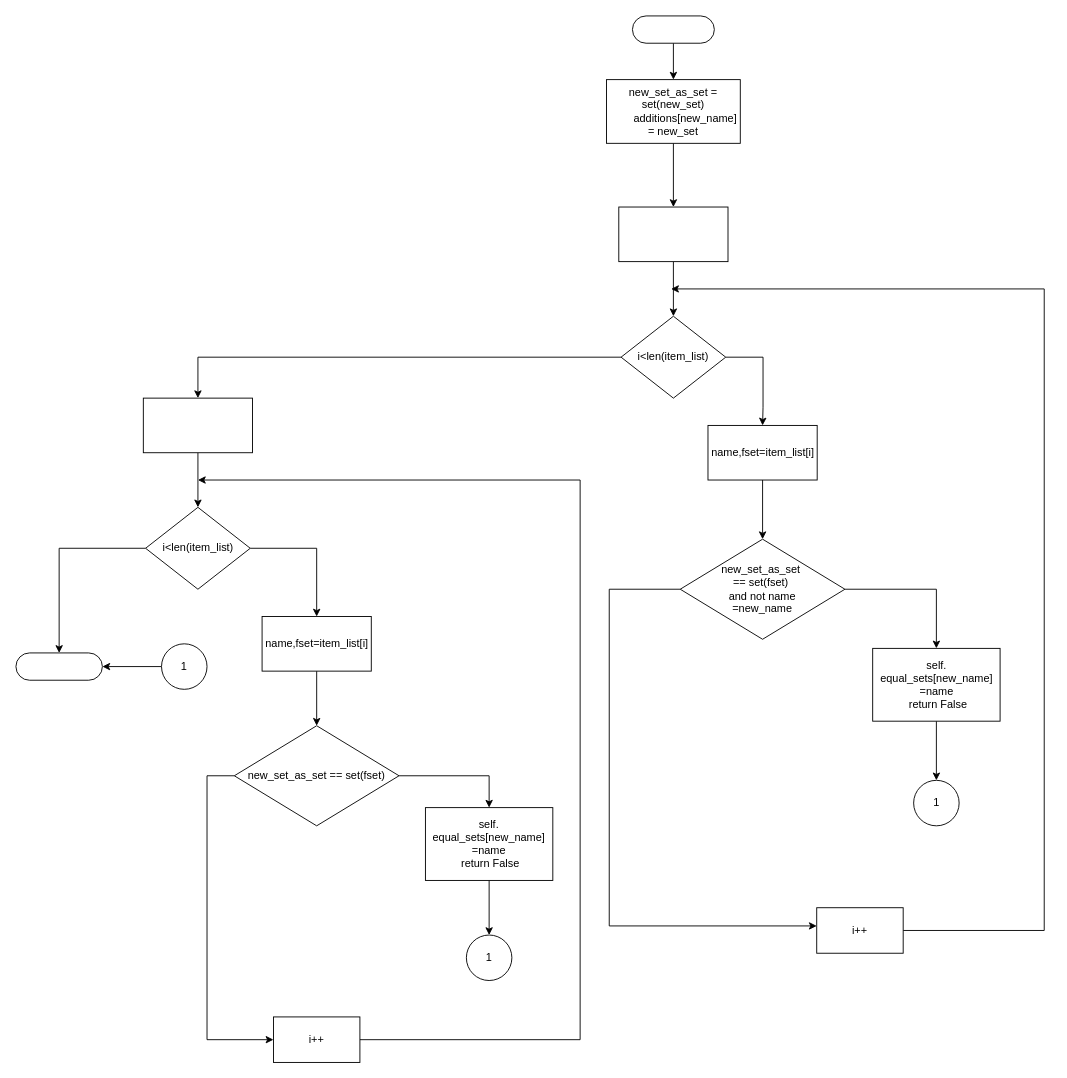
Image size: 1067x1078. Some labels were removed from this diagram. Here are the shapes that lost their labels. From the top down, the centre of each, then its label:
pixel 673 29: begin
pixel 673 234: item_list=list (additions.items()) i=0
pixel 197 425: item_list=list (self.facts.items()) i=0
pixel 58 666: end
